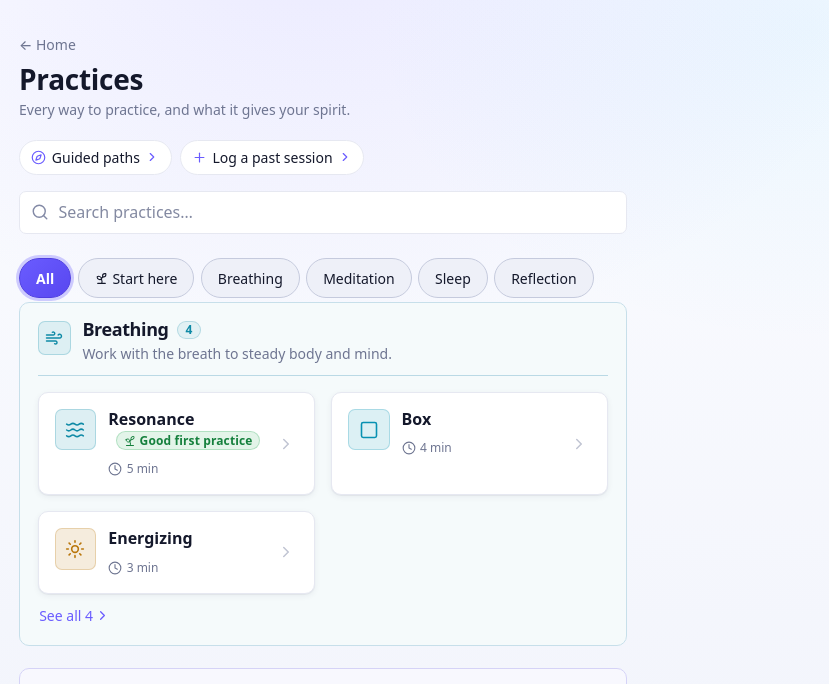
PracticesPage — search filter › shows a gentle empty state when nothing matches
Step 1. Type "zzznope" into the search field labelled "Search practices…" → coordinates (323, 212), box [19, 190, 627, 234]
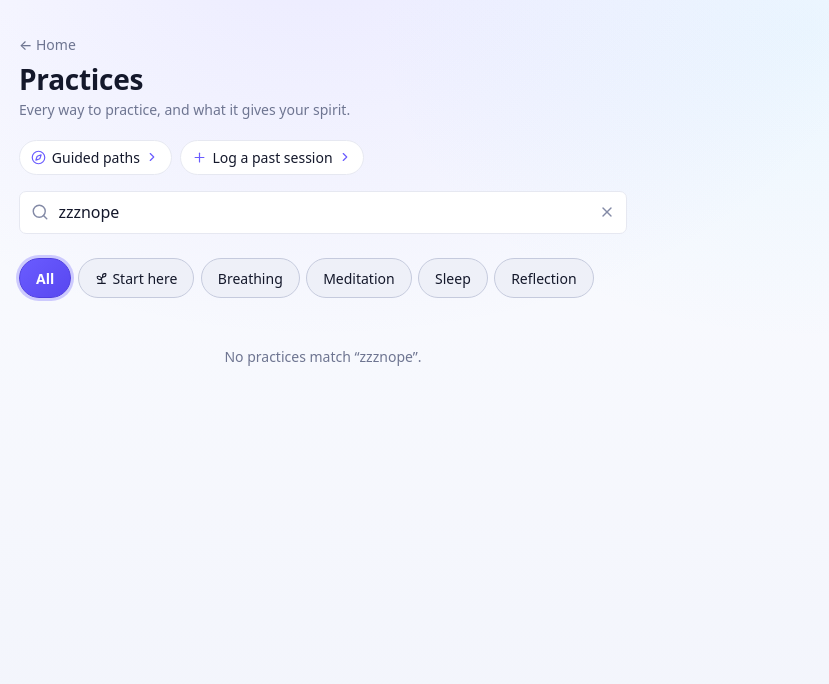
Expected: the text "No practices match “zzznope”." is shown, [224, 347, 422, 366]
Expected: the link "Resonance" is gone
